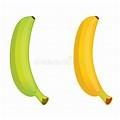banana: (72, 10, 112, 110), (11, 13, 53, 106)
